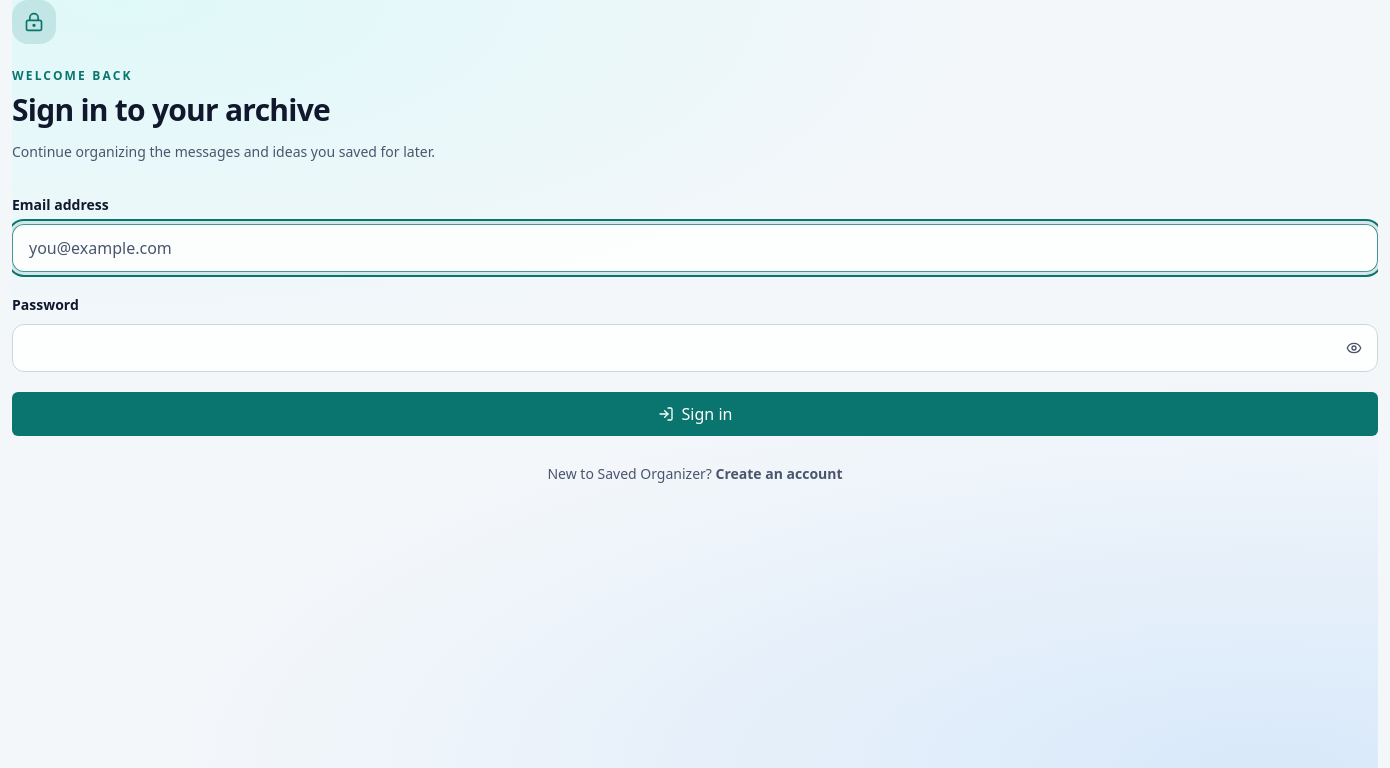
Test: LoginPage › focuses a helpful authentication error
Type "ada@example.com" into the field labelled "Email address" at [695, 248], box [12,224,1378,272]
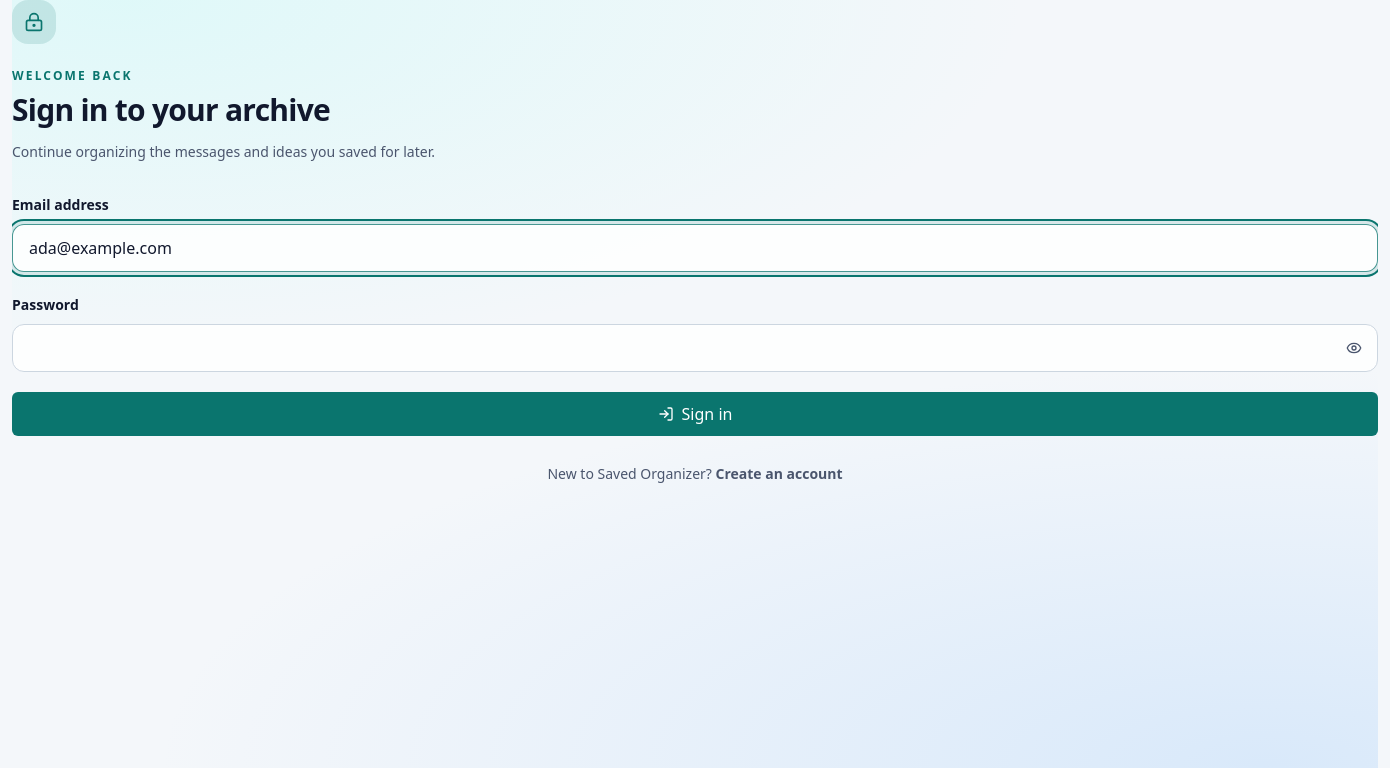
Type "wrong" into the password field labelled "Password" at [695, 348], box [12,324,1378,372]
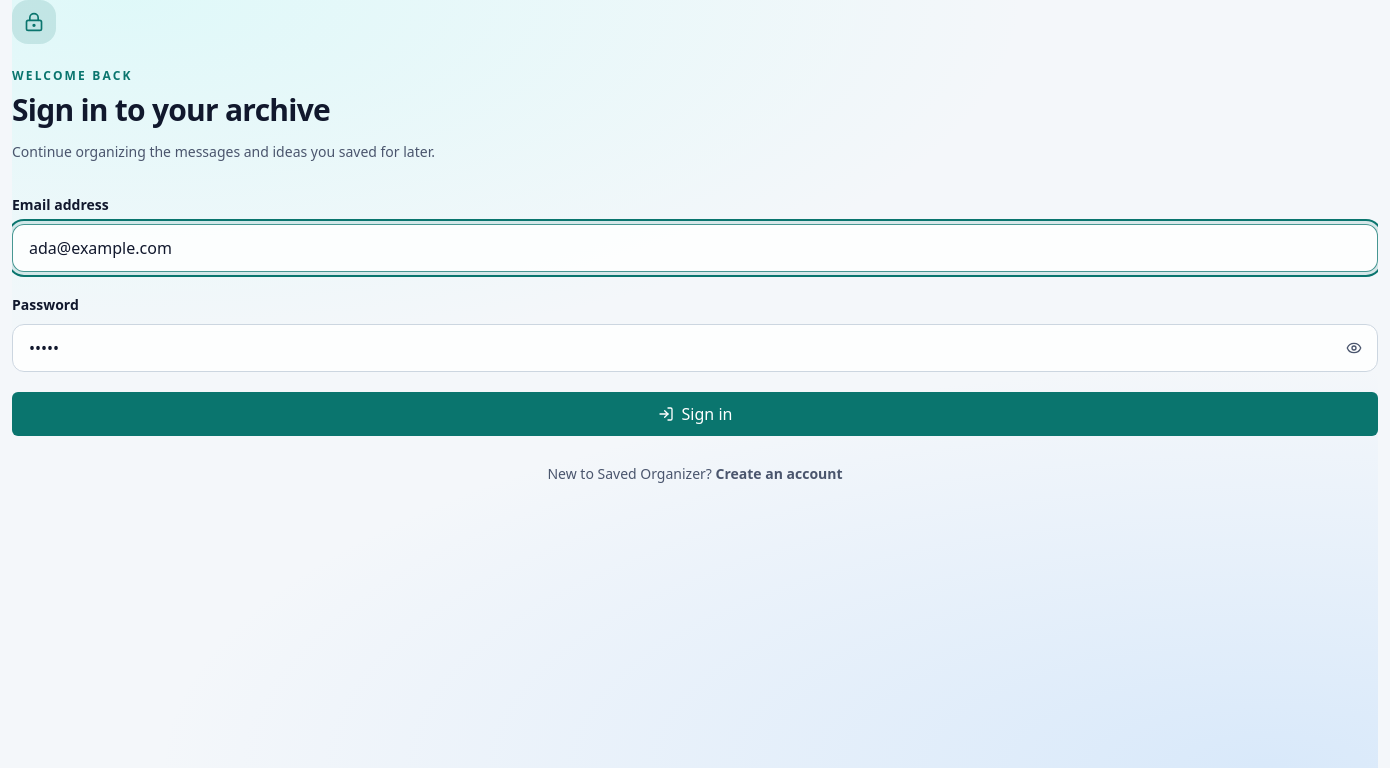
Click the button "Sign in" at [695, 414], box [12,392,1378,436]
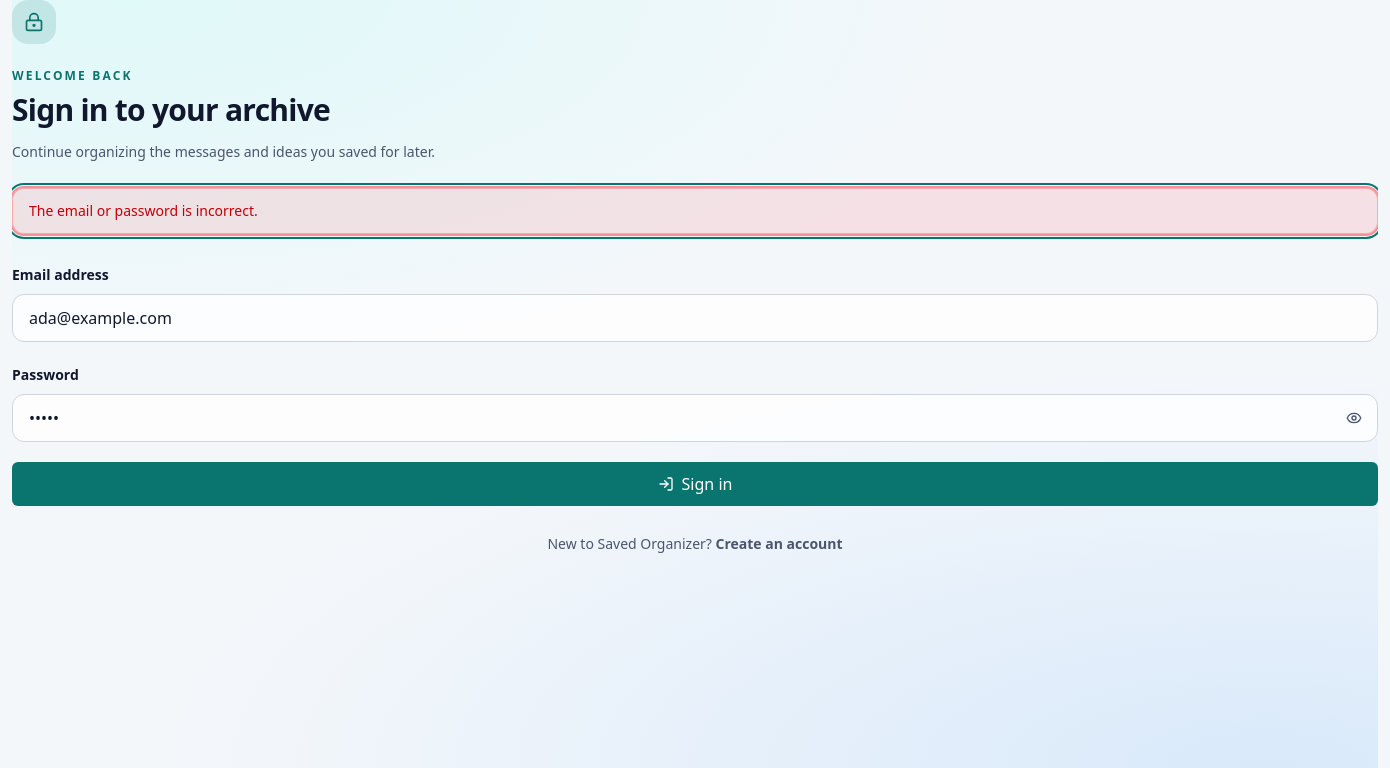
Result: the message shows "email or password is incorrect" at [29,201,258,220]
